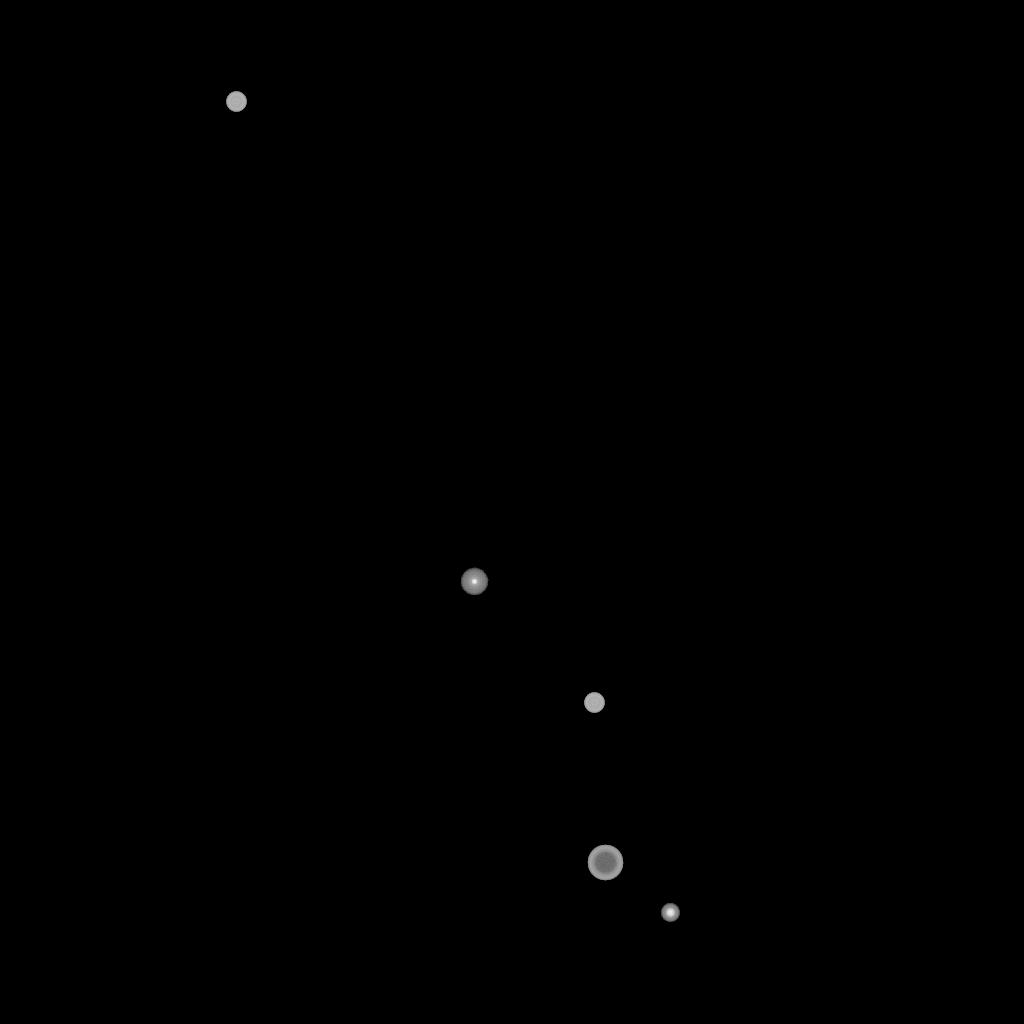depth:-10: (460, 568, 488, 596)
depth:-20: (661, 904, 679, 922)
depth:-40: (226, 92, 246, 112), (584, 693, 604, 713)
depth:-60: (587, 845, 623, 881)
